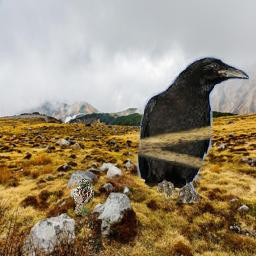Crow: (136, 55, 250, 203)
Sparrow: (74, 178, 94, 216)
